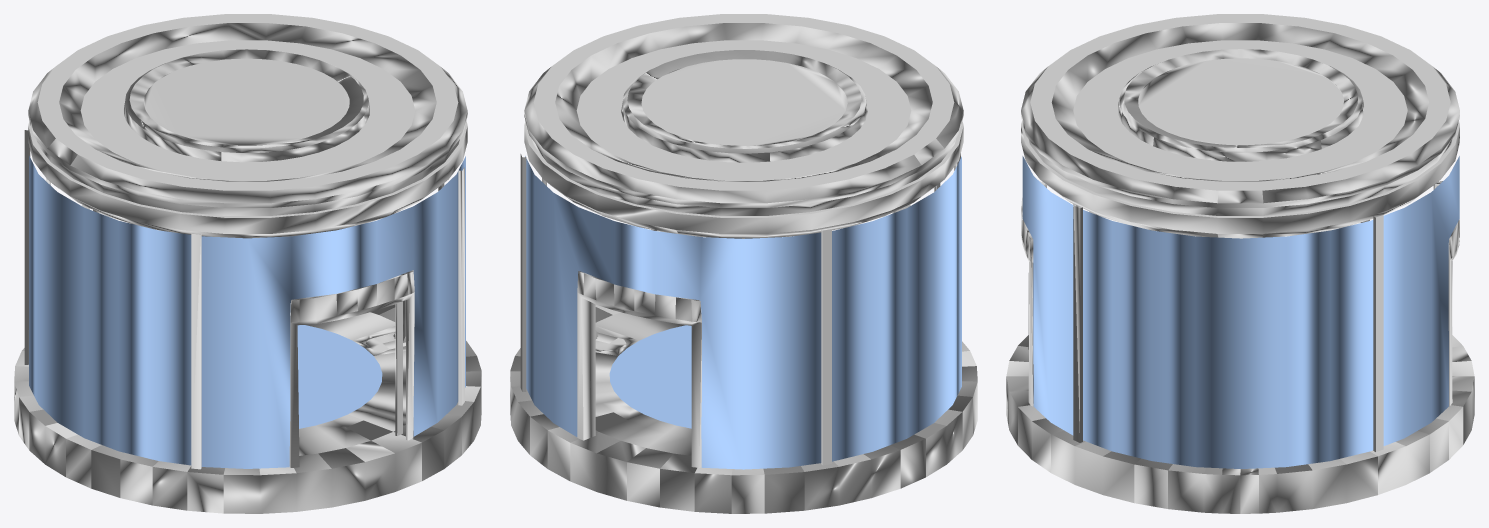
The model's file is elev_cab_d.glb.
3 views of the same model, side by side, from view 1: azimuth 30°, elevation 25°; view 2: azimuth 150°, elevation 25°; view 3: azimuth 270°, elevation 25° (orthographic).
Bounding box in the file's own units: 7.46 × 5.65 × 7.46.
